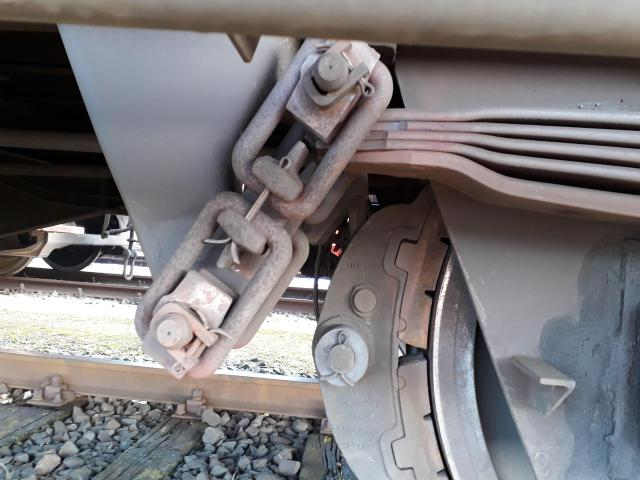blattfederww: (319, 89, 640, 208)
